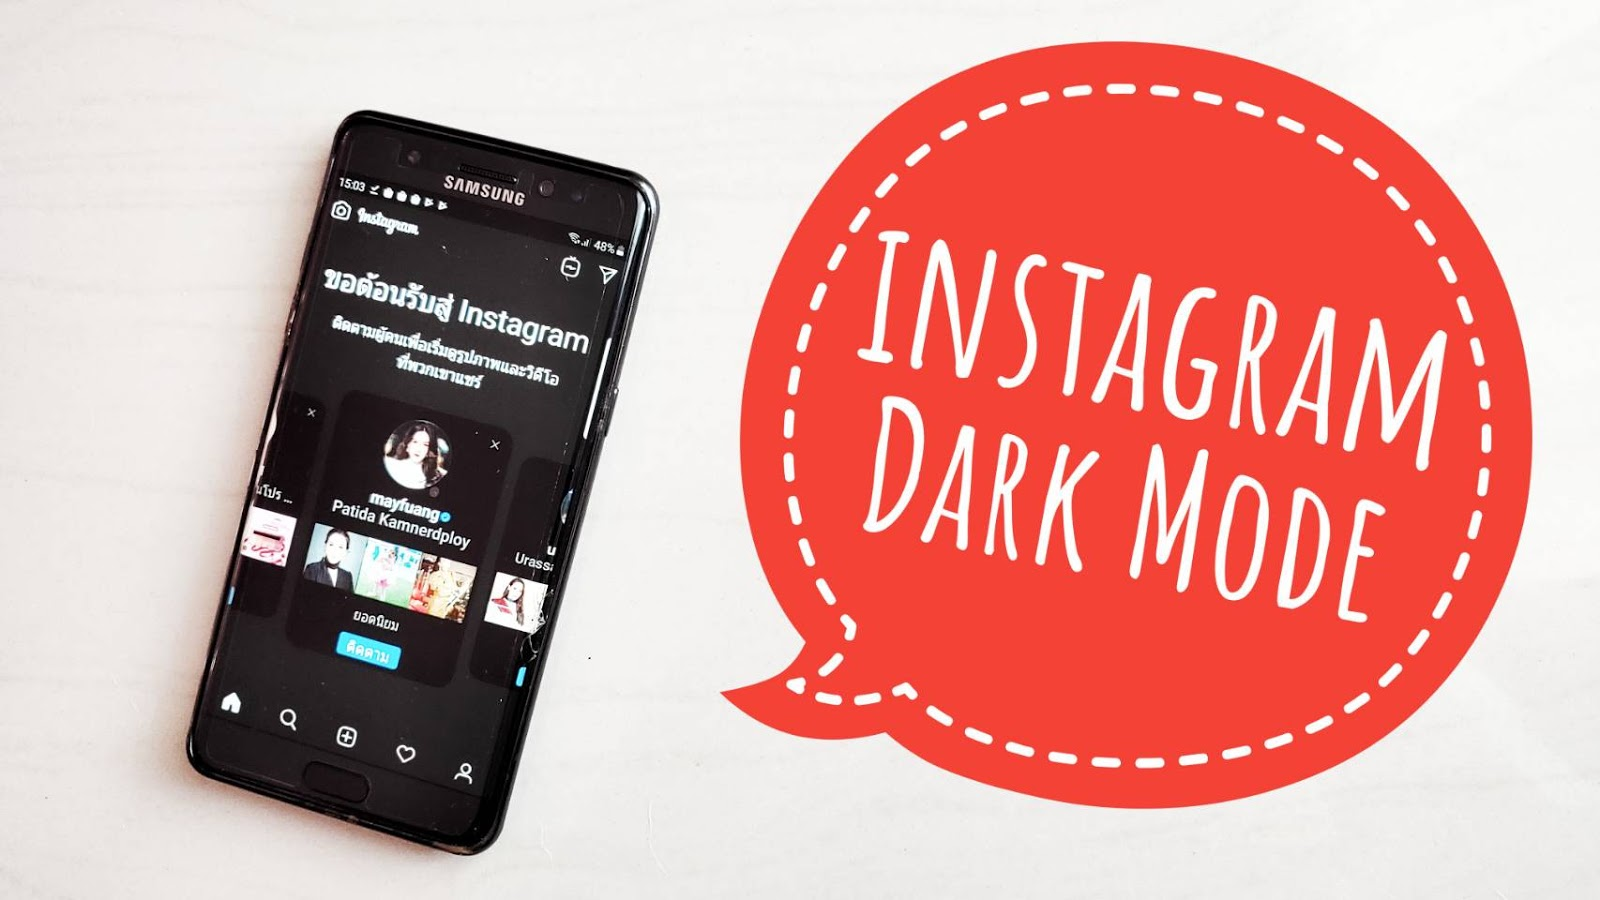Phone: (182, 105, 662, 862)
